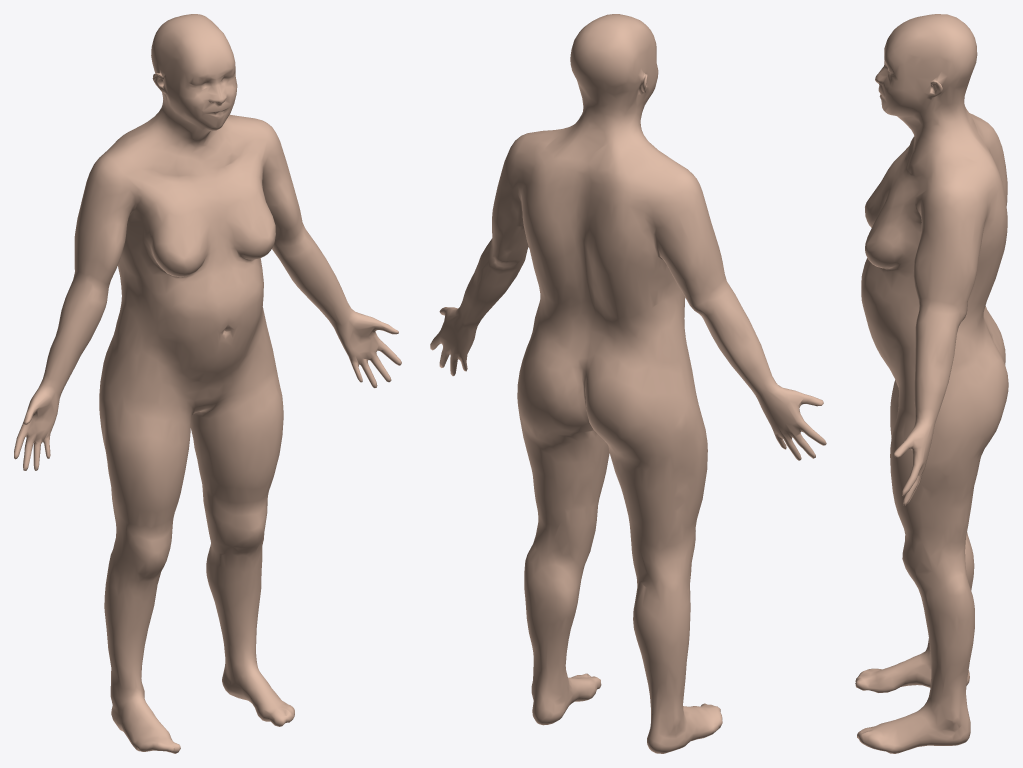
The model's file is adult_female.surface.LOD2.glb.
The picture shows the model from 3 angles, left to right: view 1: azimuth 30°, elevation 25°; view 2: azimuth 150°, elevation 25°; view 3: azimuth 270°, elevation 25°; orthographic projection. The views are drawn at different scales.
Visible parts, largest first — view 1: ADULT.FEMALE.SURFACE.SKIN; view 2: ADULT.FEMALE.SURFACE.SKIN; view 3: ADULT.FEMALE.SURFACE.SKIN.
Boxes of the visible parts, <box> form: ADULT.FEMALE.SURFACE.SKIN: <box>14,14,401,753</box>; ADULT.FEMALE.SURFACE.SKIN: <box>430,14,826,753</box>; ADULT.FEMALE.SURFACE.SKIN: <box>855,14,1008,753</box>.
Size of the model in its own units: 0.968 by 1.67 by 0.3297.
